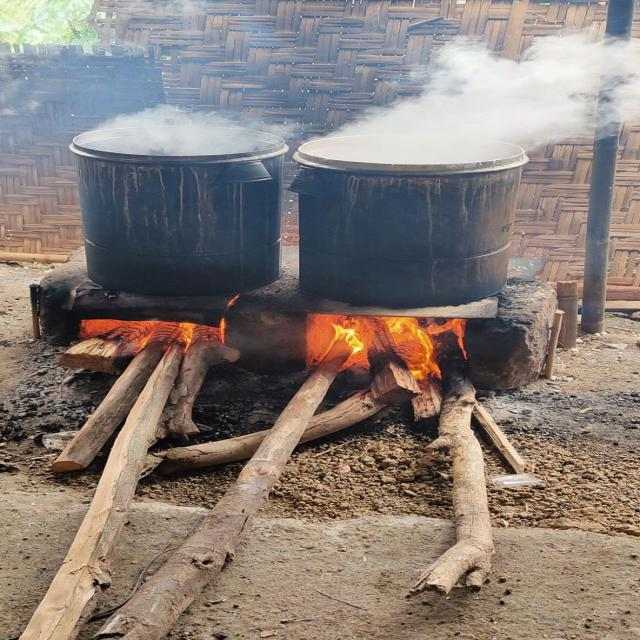fire: (383, 316, 443, 379)
